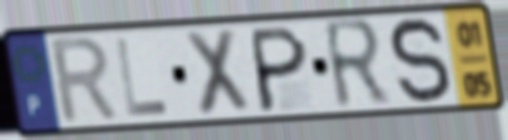L: (112, 35, 173, 120)
P: (250, 22, 310, 115)
R: (319, 15, 394, 115), (48, 33, 124, 129)
S: (386, 14, 454, 109)
X: (181, 25, 254, 120)
